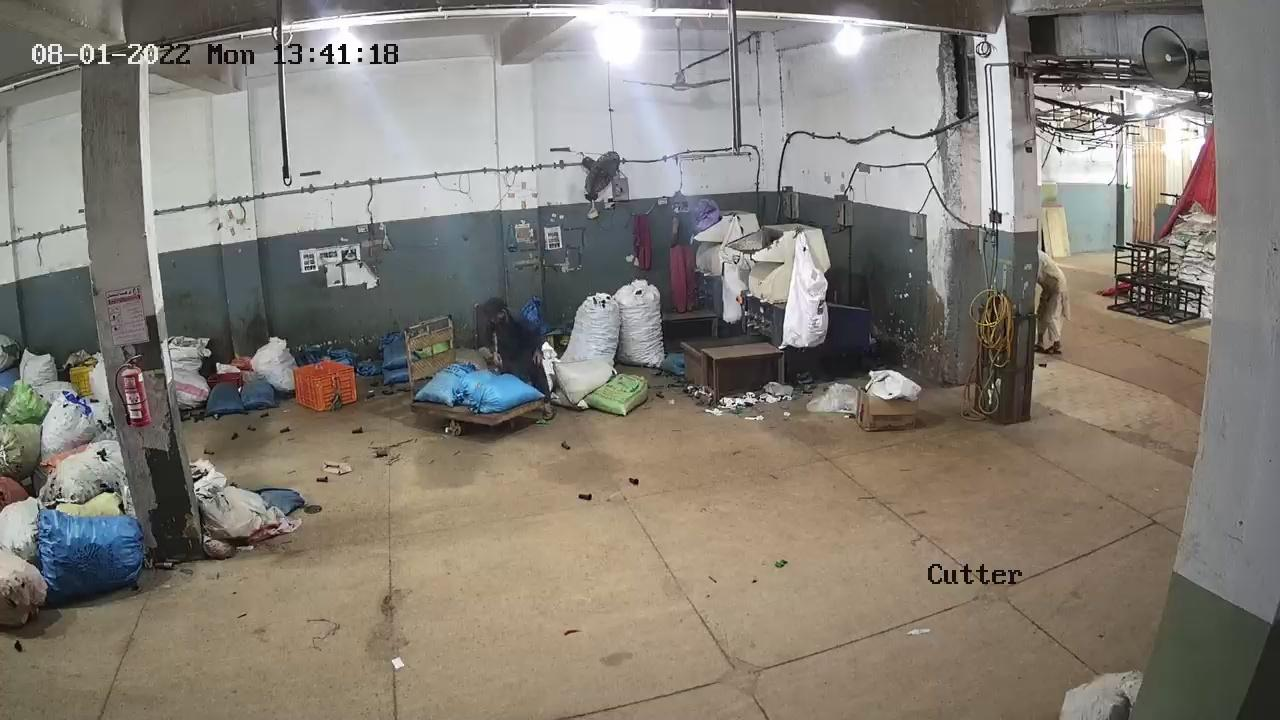person: (477, 300, 554, 400), (1037, 253, 1068, 355), (670, 197, 697, 312)
